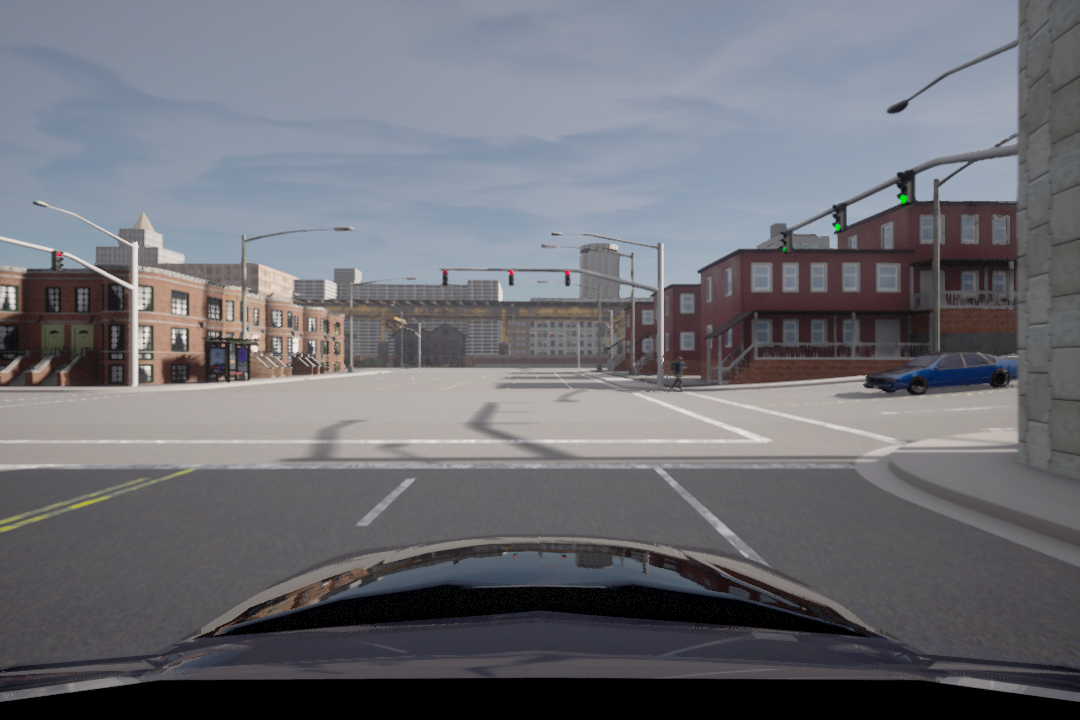TrafficLight: (894, 169, 917, 203), (829, 205, 851, 234), (50, 247, 64, 274), (780, 230, 794, 256), (506, 267, 517, 289), (564, 270, 573, 287), (441, 266, 447, 284)
